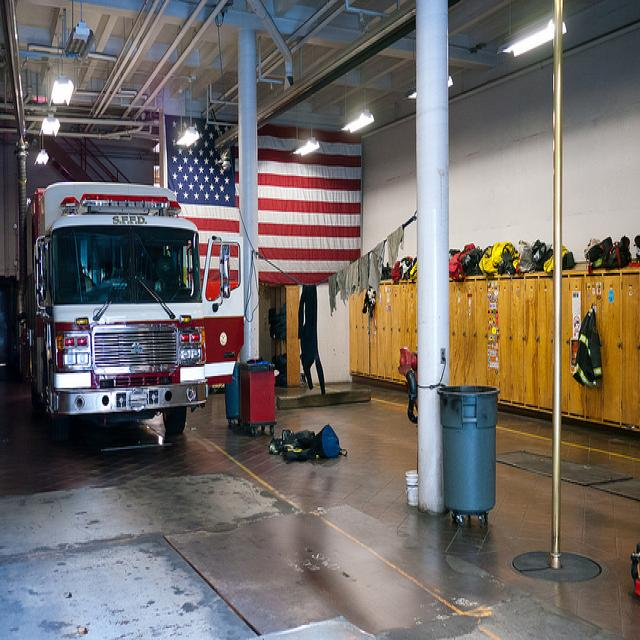Vehicle: (12, 179, 204, 462)
